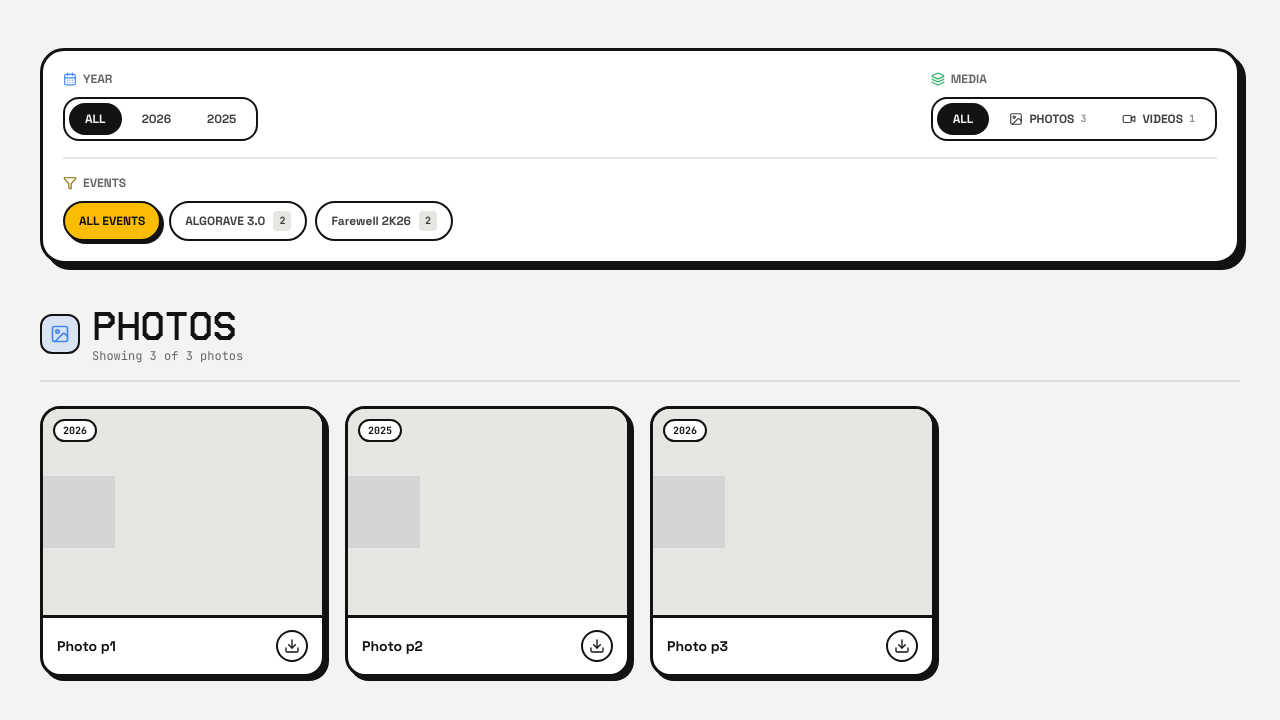
Test: GalleryClient — filters › shows the no-match message and resets all filters
Later steps or results of the test are not shown.
Click the button "2025" below "YEAR": (222, 119) left=191, top=103, right=252, bottom=135
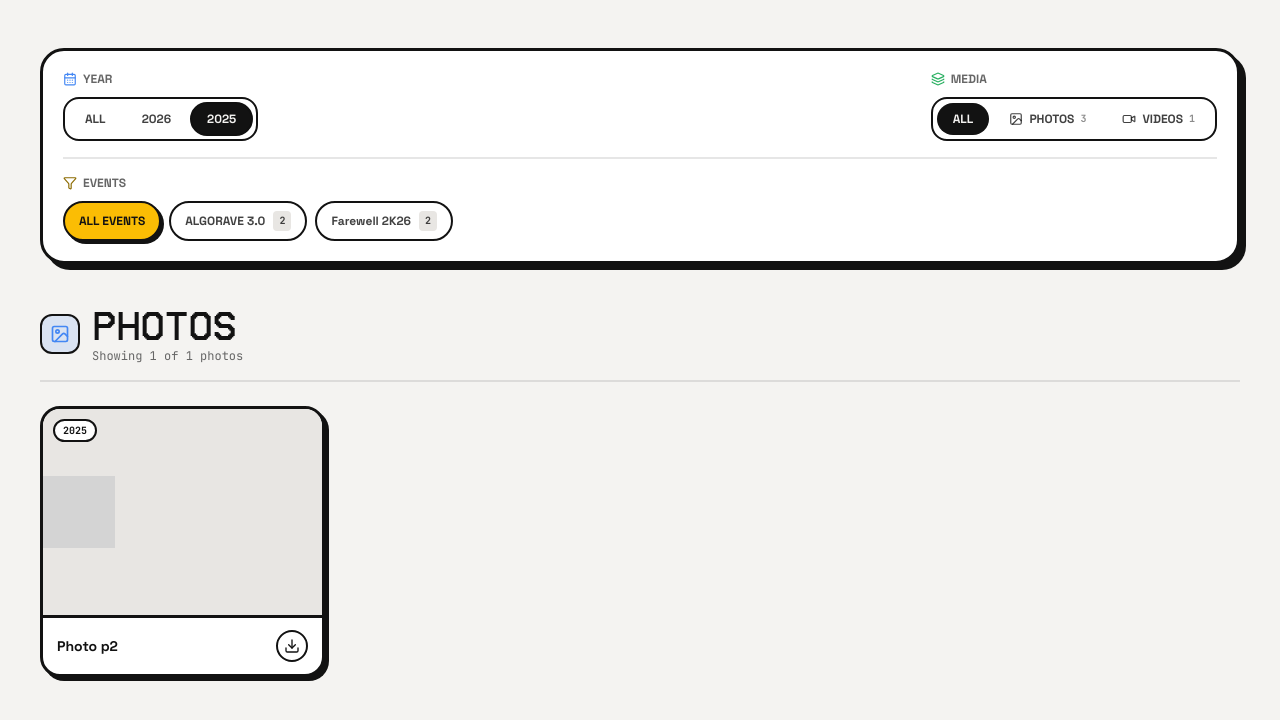
Click the button "Farewell 2K26 2": (384, 221) left=315, top=201, right=453, bottom=241
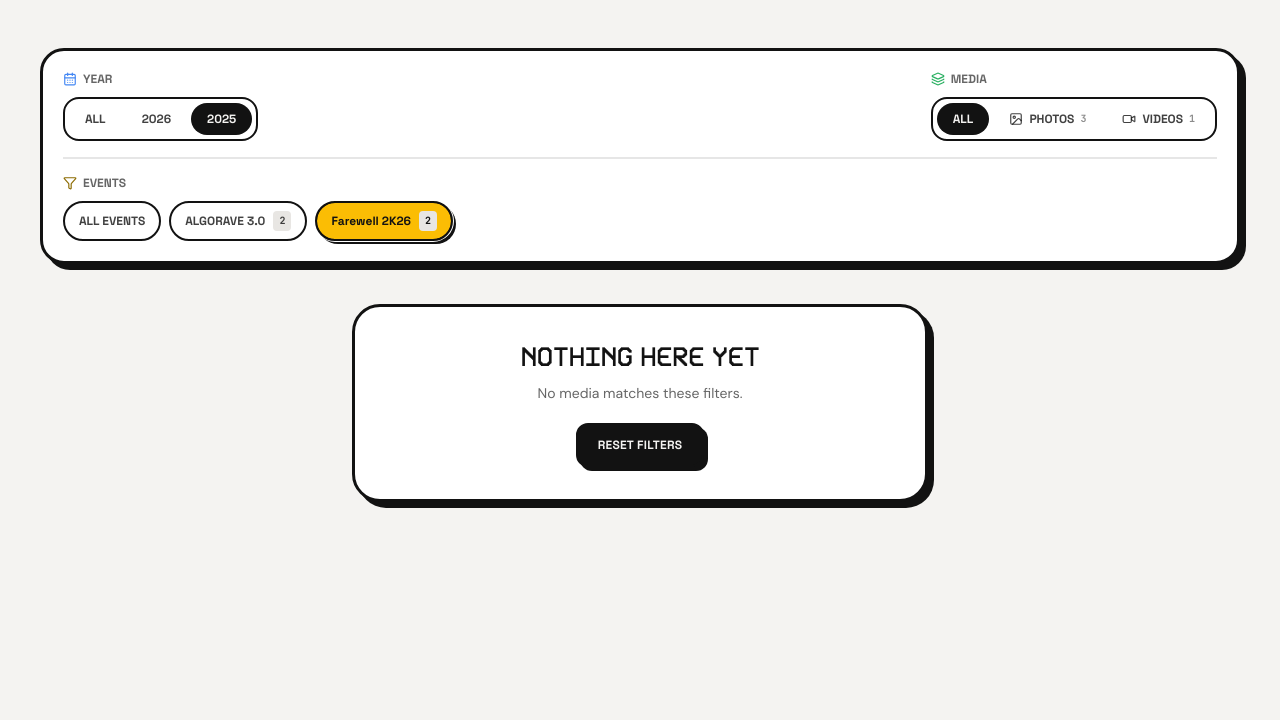
Now the text "No media matches these filters." is shown, box left=538, top=384, right=742, bottom=402
